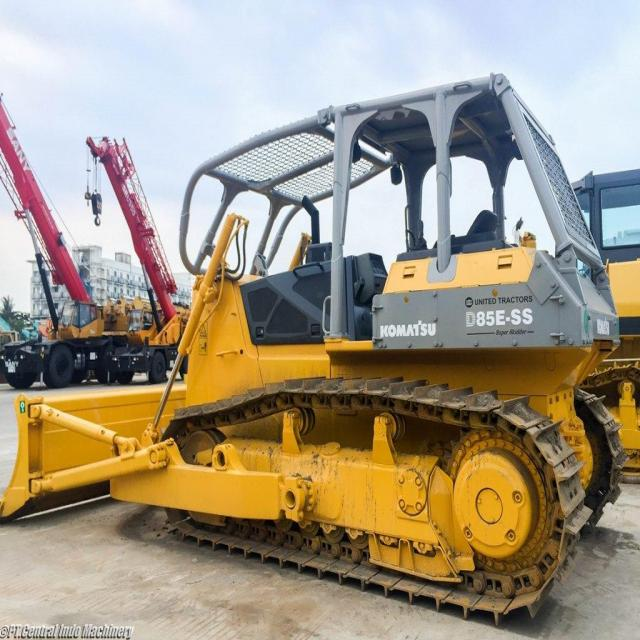Bulldozer: (10, 85, 638, 632)
